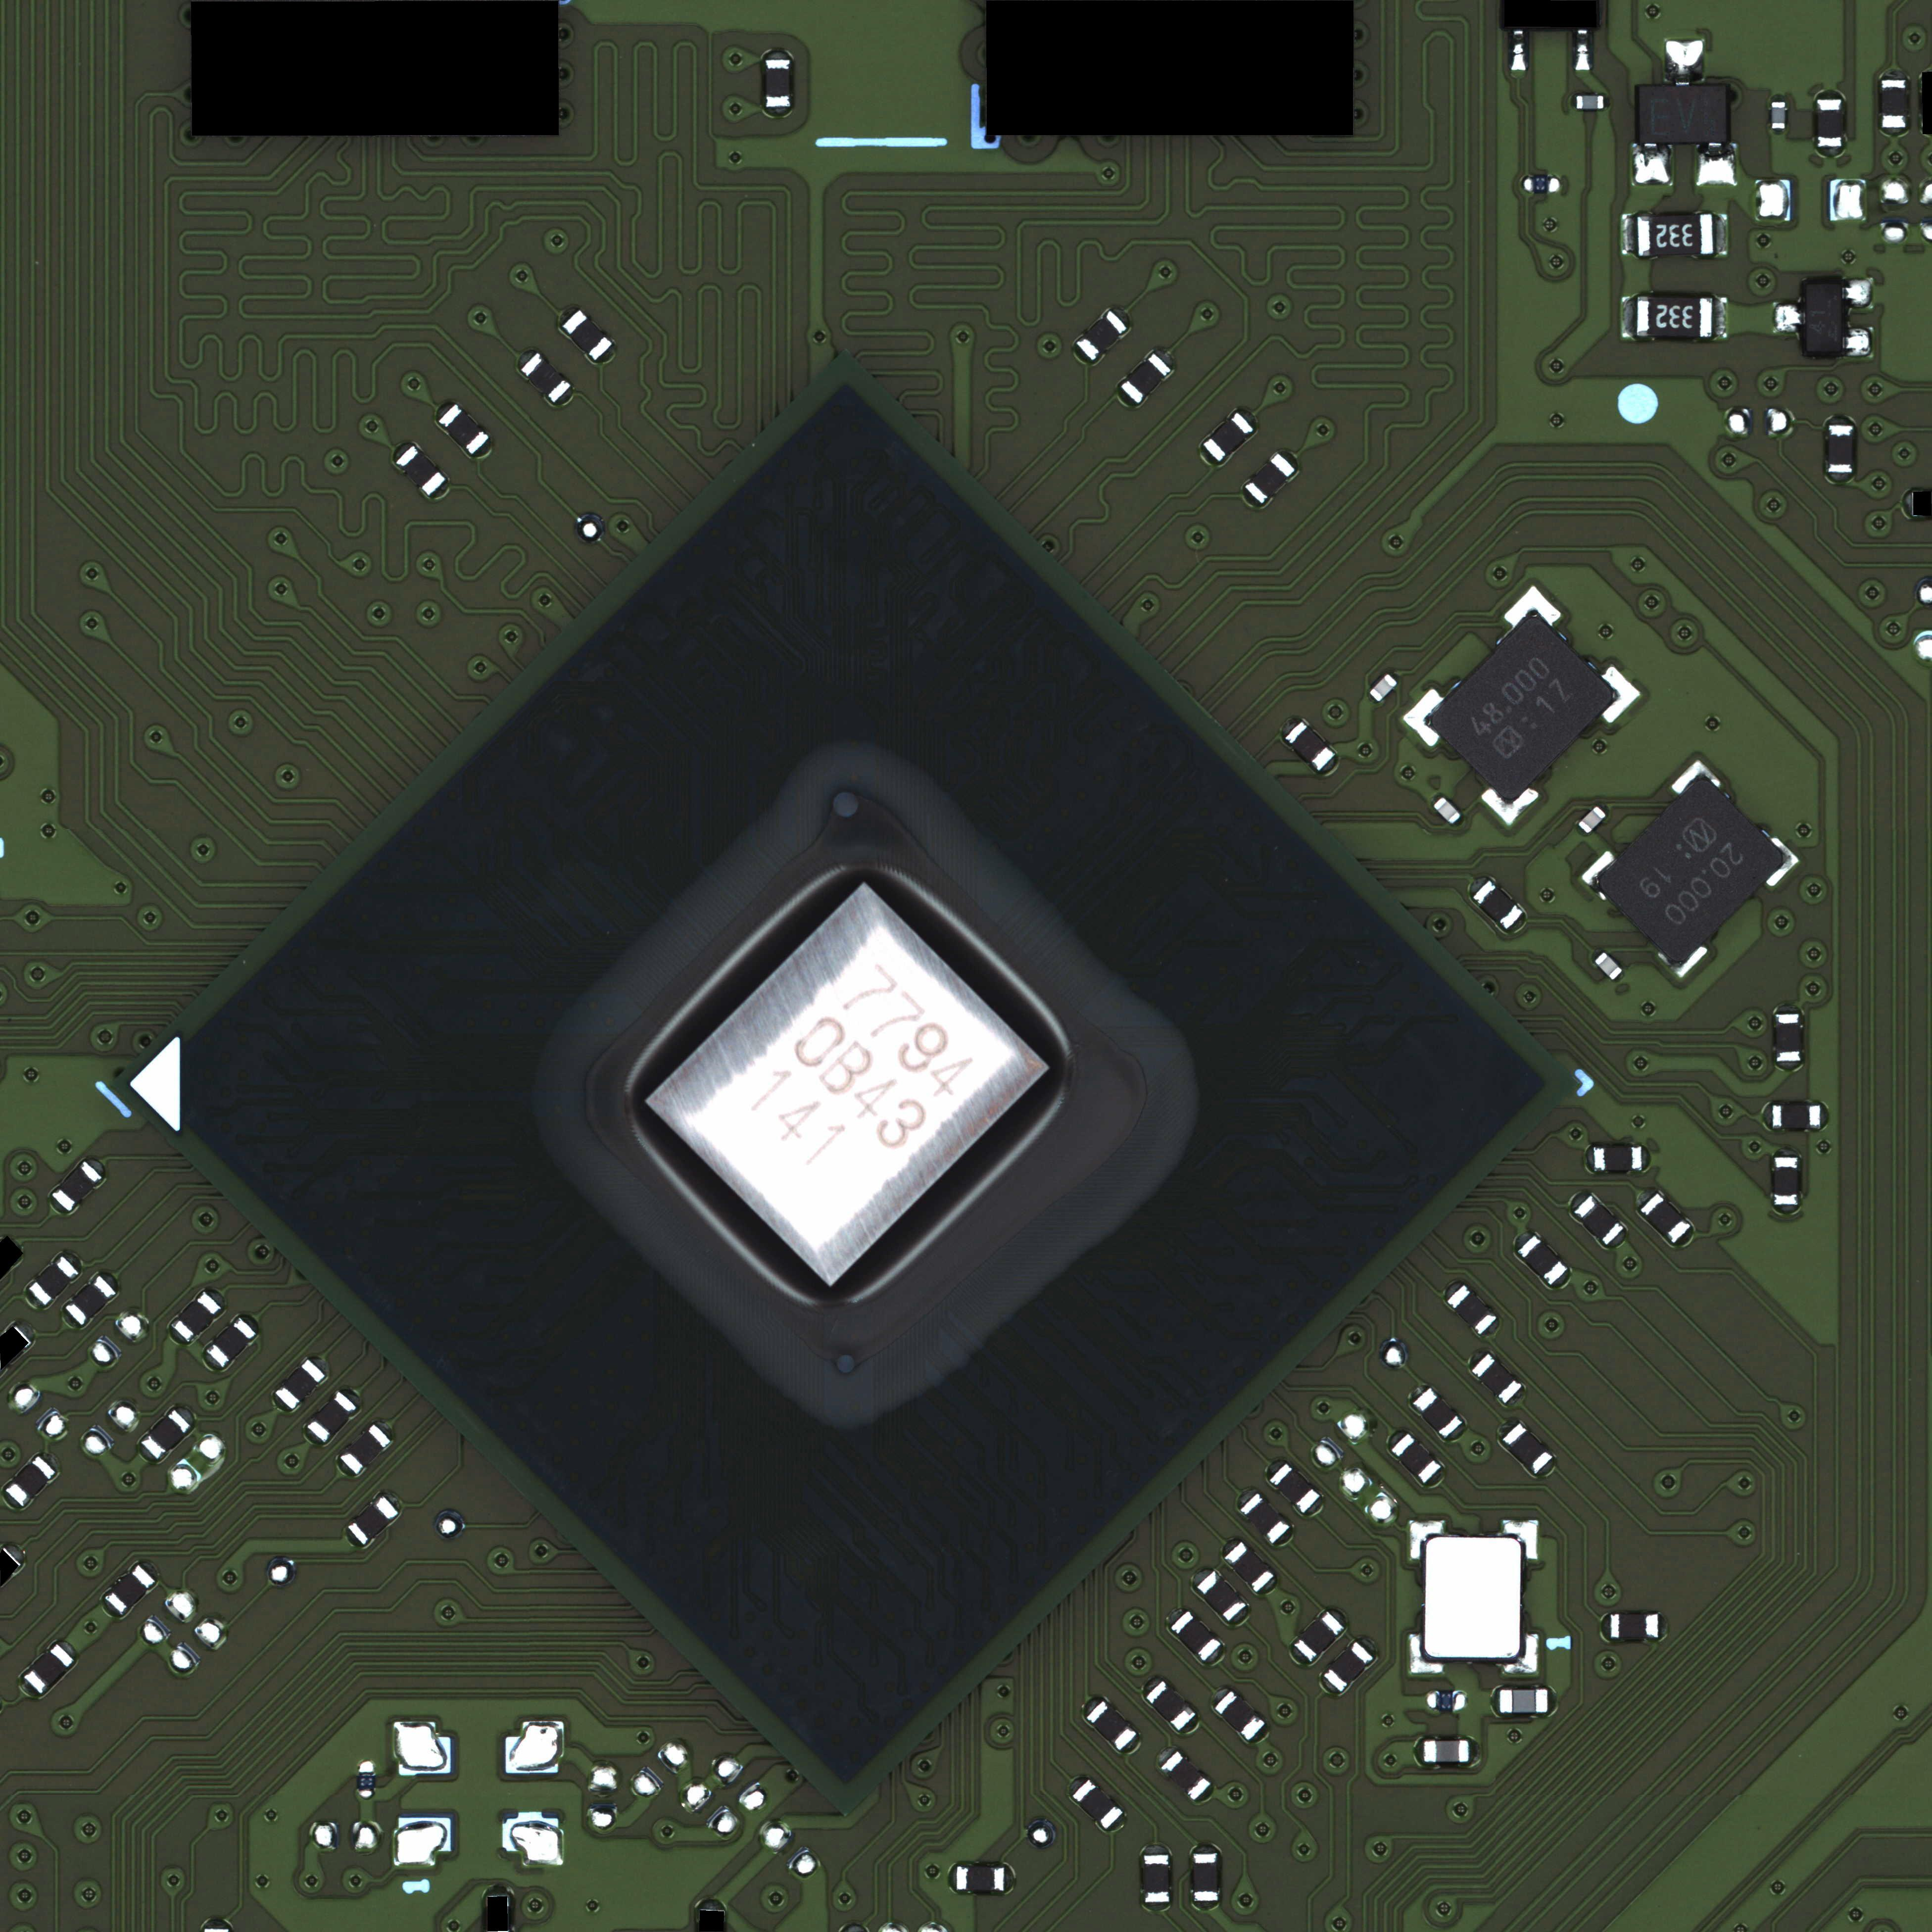Package: (1426, 609, 1621, 805), (1591, 775, 1789, 968), (1422, 1537, 1522, 1660), (1638, 87, 1727, 142), (1637, 214, 1714, 257), (1637, 297, 1713, 338), (1201, 410, 1254, 464), (1516, 1233, 1569, 1286), (1445, 1283, 1499, 1336), (1070, 1778, 1123, 1831), (1292, 1610, 1345, 1663), (1322, 1640, 1375, 1693), (64, 1274, 117, 1327), (306, 1391, 359, 1444), (561, 308, 612, 363), (1284, 720, 1338, 771), (1472, 879, 1525, 931), (1120, 352, 1171, 405), (1076, 310, 1129, 361), (1470, 1353, 1523, 1405), (1502, 1422, 1553, 1476), (1412, 1387, 1463, 1440), (1269, 1461, 1320, 1514), (1238, 1491, 1290, 1545), (1223, 1541, 1276, 1592), (1196, 1569, 1247, 1622), (1214, 1690, 1267, 1741), (1145, 1679, 1196, 1732), (1159, 1750, 1212, 1801), (437, 403, 490, 455), (395, 444, 446, 497), (51, 1161, 103, 1214), (28, 1254, 80, 1307), (23, 1644, 76, 1695), (104, 1564, 156, 1617), (205, 1316, 258, 1368), (274, 1359, 327, 1410), (340, 1424, 393, 1476), (4, 1456, 57, 1507), (1244, 453, 1295, 504), (1640, 1192, 1691, 1244), (1573, 1194, 1624, 1246), (1391, 1433, 1442, 1484), (1171, 1610, 1223, 1661), (1086, 1700, 1138, 1752), (520, 352, 571, 403), (170, 1292, 221, 1343), (140, 1408, 191, 1460), (1806, 280, 1842, 354), (347, 1495, 400, 1545), (1192, 1852, 1219, 1902), (1881, 80, 1907, 127), (1143, 1854, 1169, 1902), (1775, 1014, 1801, 1062), (764, 58, 791, 106), (1592, 1146, 1642, 1171), (1771, 1104, 1821, 1129), (1773, 1157, 1798, 1205), (1828, 425, 1852, 472), (1817, 99, 1842, 147), (957, 1867, 1005, 1891), (1610, 1614, 1658, 1638), (1499, 1690, 1548, 1713), (1422, 1739, 1470, 1762), (1369, 672, 1398, 702), (1433, 796, 1461, 826), (1578, 805, 1606, 835), (1594, 952, 1622, 982), (1576, 96, 1605, 110), (1771, 103, 1785, 129)
Solder: (1401, 686, 1465, 748), (1479, 766, 1541, 828), (1582, 663, 1642, 725), (1502, 586, 1562, 646), (1744, 833, 1801, 888), (1670, 759, 1723, 814), (1580, 849, 1633, 902), (1656, 927, 1709, 980), (1663, 39, 1706, 87), (1695, 143, 1737, 186), (1631, 143, 1674, 186), (1408, 1520, 1445, 1562), (1502, 1633, 1539, 1675), (1502, 1520, 1539, 1560), (1408, 1633, 1444, 1675), (1773, 303, 1805, 334), (1842, 327, 1874, 359), (1842, 278, 1874, 310), (1628, 1180, 1660, 1212), (1506, 1224, 1537, 1254), (12, 1313, 42, 1345), (1560, 1185, 1592, 1214), (1192, 442, 1221, 472), (1152, 343, 1182, 372), (1491, 1414, 1522, 1442), (594, 341, 623, 372), (552, 384, 580, 414), (471, 437, 501, 465), (136, 1555, 166, 1583), (380, 1484, 409, 1514), (1463, 870, 1491, 899), (1235, 487, 1263, 515), (1237, 403, 1265, 432), (1461, 1343, 1490, 1371), (1272, 1525, 1300, 1553), (1205, 1681, 1233, 1709), (1247, 1723, 1276, 1752), (1178, 1713, 1207, 1741), (1150, 1739, 1178, 1767), (1104, 1812, 1132, 1840), (1062, 1769, 1090, 1798), (428, 478, 456, 506), (60, 1246, 88, 1274), (14, 1675, 42, 1704), (161, 1323, 189, 1352), (265, 1391, 294, 1419), (329, 1456, 357, 1484), (338, 1525, 366, 1553), (131, 1440, 159, 1468), (173, 1399, 202, 1428), (1185, 1562, 1215, 1589), (1573, 30, 1592, 71), (1509, 30, 1529, 69), (1111, 386, 1139, 412), (1109, 303, 1138, 329), (1672, 1224, 1698, 1253), (1605, 1228, 1633, 1254), (1550, 1267, 1576, 1295), (1403, 1378, 1431, 1405), (1231, 1483, 1258, 1511), (1256, 1575, 1284, 1601), (1228, 1605, 1256, 1631), (1203, 1644, 1231, 1670), (1136, 1672, 1164, 1698), (1118, 1732, 1146, 1759), (1355, 1631, 1384, 1658), (42, 1194, 71, 1221), (19, 1288, 48, 1315), (57, 1306, 83, 1334), (237, 1307, 265, 1334), (306, 1350, 334, 1376), (297, 1426, 326, 1453), (37, 1447, 65, 1474), (1276, 713, 1302, 740), (1069, 343, 1095, 370), (1479, 1316, 1506, 1343), (1504, 1385, 1530, 1412), (1534, 1456, 1560, 1483), (1444, 1421, 1470, 1447), (1382, 1424, 1408, 1451), (1260, 1454, 1286, 1481), (1302, 1495, 1329, 1522), (1215, 1532, 1242, 1559), (1162, 1601, 1189, 1628), (1077, 1691, 1104, 1718), (1327, 1603, 1353, 1629), (1284, 1644, 1311, 1670), (1315, 1675, 1341, 1702), (554, 301, 580, 327), (96, 1596, 122, 1622), (97, 1267, 124, 1293), (203, 1283, 230, 1309), (196, 1350, 223, 1376), (373, 1415, 400, 1442), (4, 1539, 30, 1566), (1422, 1467, 1451, 1491), (338, 1384, 366, 1408), (1277, 446, 1304, 471), (1438, 1276, 1463, 1302), (1194, 1783, 1221, 1808), (511, 345, 538, 370), (387, 437, 412, 464), (1621, 214, 1637, 255), (1621, 297, 1637, 338), (1714, 214, 1729, 258), (1318, 754, 1343, 778), (1506, 913, 1530, 938), (430, 396, 455, 421), (85, 1154, 110, 1178), (2, 1488, 25, 1514), (1713, 297, 1727, 338), (57, 1637, 81, 1660), (1813, 147, 1845, 159), (1824, 412, 1856, 425), (1771, 1205, 1803, 1217), (1470, 1737, 1483, 1767), (697, 1897, 727, 1909), (1488, 1684, 1499, 1718), (1824, 474, 1856, 485), (1005, 1863, 1016, 1895), (1139, 1844, 1171, 1854), (1760, 1100, 1771, 1132), (1548, 1686, 1559, 1718), (1599, 1610, 1610, 1642), (945, 1863, 955, 1895), (1775, 1001, 1801, 1014), (1815, 88, 1845, 99), (763, 108, 793, 119), (1821, 1102, 1831, 1132), (1660, 1612, 1670, 1642), (203, 1918, 234, 1928), (1426, 789, 1444, 807), (1571, 823, 1589, 840), (1881, 69, 1909, 80), (1775, 1062, 1803, 1072), (1642, 1145, 1652, 1173), (1902, 490, 1913, 518), (1773, 1146, 1799, 1157), (1192, 1902, 1219, 1913), (1362, 692, 1380, 708), (1451, 814, 1467, 832), (1596, 800, 1614, 816), (1587, 945, 1605, 961), (1189, 1844, 1221, 1852), (1141, 1904, 1173, 1913), (763, 50, 793, 58), (1879, 129, 1909, 138), (1414, 1737, 1422, 1767), (483, 1886, 513, 1895), (1387, 667, 1403, 683), (1583, 1145, 1592, 1173), (1614, 971, 1628, 985), (1569, 92, 1576, 111), (1605, 94, 1612, 111), (1771, 94, 1787, 101), (1771, 129, 1785, 136)
